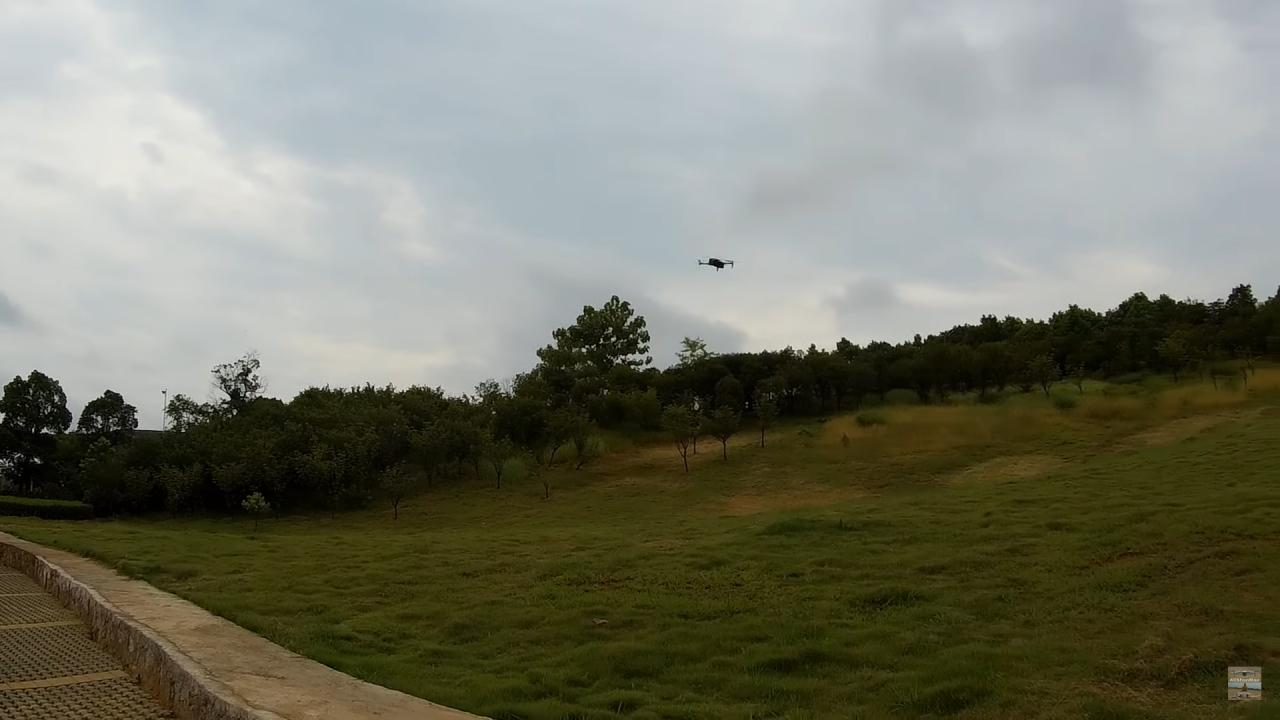Drone: (686, 246, 746, 281)
